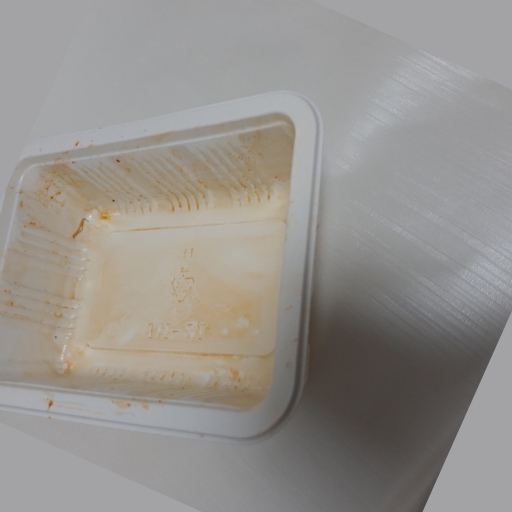Plastic_4: (5, 90, 323, 442)
